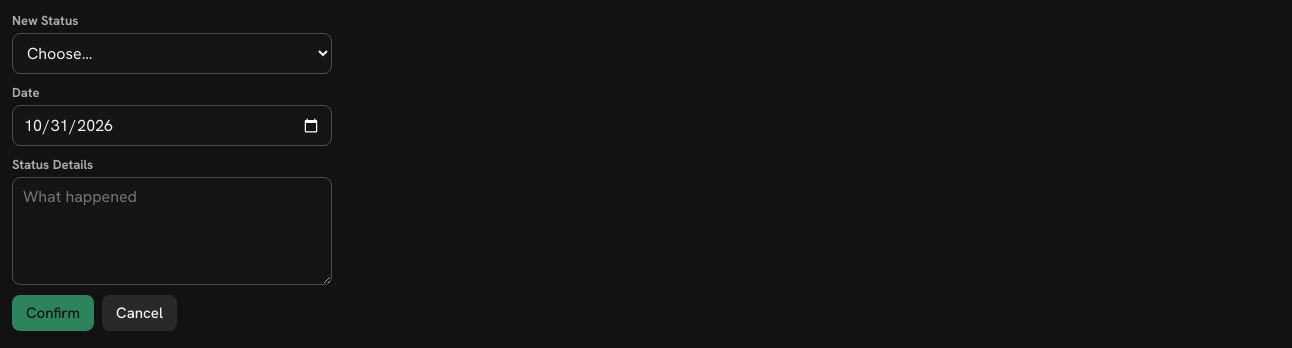
Test case: Status Update's form › a restore: its own warning, and a green Confirm
Select "Sanctuary (Restore)" in the dropdown labelled "New Status": (172, 54) x1=12 y1=33 x2=332 y2=74
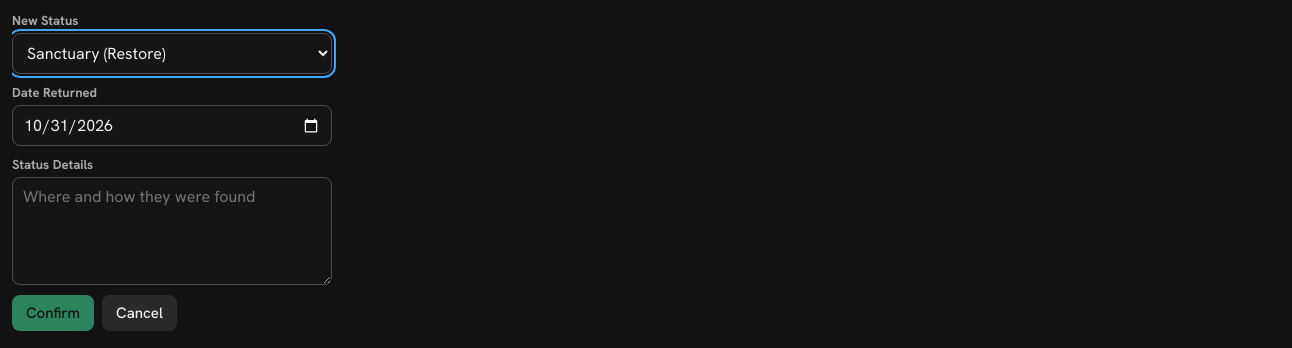
In the text box labelled "Status Details": (172, 231) x1=12 y1=177 x2=332 y2=285, type "Back with the troop"
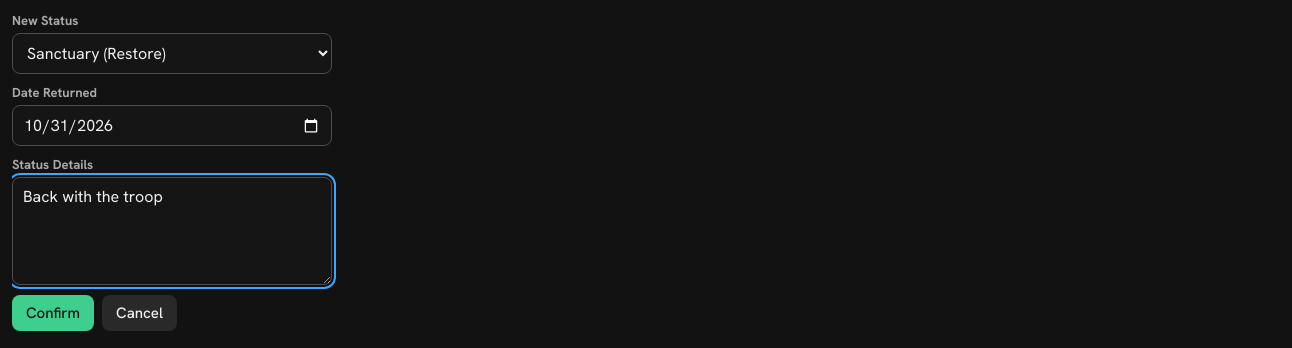
expect the date field labelled "Date Returned" is shown: met, box x1=12 y1=105 x2=332 y2=146
Click the button "Confirm": (53, 313) x1=12 y1=295 x2=94 y2=331
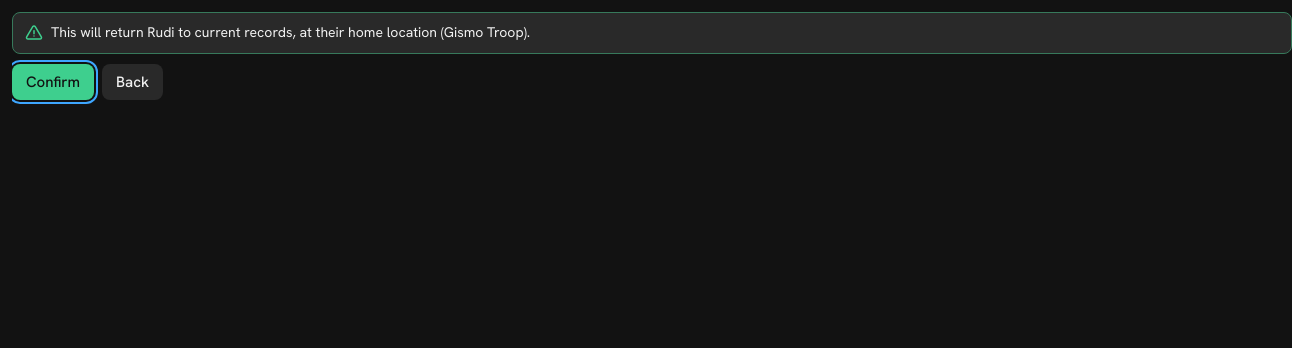
expect the message reads "This will return Rudi to current records, at their home location (Gismo Troop).": met, box x1=51 y1=23 x2=530 y2=41
